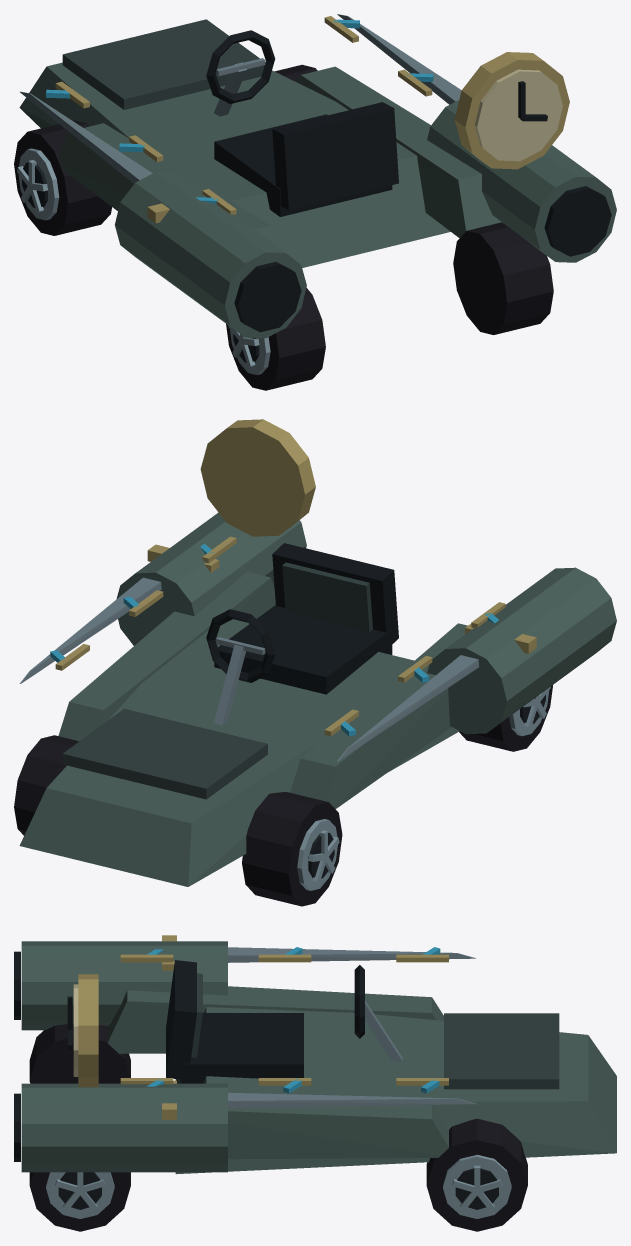
Rendered from kart.glb.
The picture shows the model from 3 angles, top to bottom: view 1: azimuth 30°, elevation 25°; view 2: azimuth 150°, elevation 25°; view 3: azimuth 270°, elevation 25°; orthographic projection. The views are drawn at different scales.
Parts seen in each view (by area): view 1: identity-speeder-speeder-long-cowl-and-stern-turbines, identity-speeder-driver-cockpit, identity-speeder-motif-clock, wheel-rear-right, wheel-front-left, wheel-rear-left, identity-speeder-motif-swords, identity-speeder-motif-runes; view 2: identity-speeder-speeder-long-cowl-and-stern-turbines, identity-speeder-driver-cockpit, identity-speeder-motif-clock, wheel-front-left, identity-speeder-motif-swords, wheel-front-right, identity-speeder-motif-runes, wheel-rear-left; view 3: identity-speeder-speeder-long-cowl-and-stern-turbines, identity-speeder-driver-cockpit, wheel-front-right, identity-speeder-motif-swords, wheel-rear-right, wheel-rear-left, identity-speeder-motif-clock, identity-speeder-motif-runes.
Boxes of the visible parts, <box> form: identity-speeder-speeder-long-cowl-and-stern-turbines: <box>19,19,616,338</box>; identity-speeder-driver-cockpit: <box>206,30,398,216</box>; identity-speeder-motif-clock: <box>454,52,569,169</box>; wheel-rear-right: <box>453,222,553,334</box>; wheel-front-left: <box>14,120,111,235</box>; wheel-rear-left: <box>226,287,325,390</box>; identity-speeder-motif-swords: <box>20,14,461,223</box>; identity-speeder-motif-runes: <box>46,16,433,214</box>; identity-speeder-speeder-long-cowl-and-stern-turbines: <box>19,512,616,886</box>; identity-speeder-driver-cockpit: <box>206,543,398,725</box>; identity-speeder-motif-clock: <box>200,419,315,536</box>; wheel-front-left: <box>242,792,342,906</box>; identity-speeder-motif-swords: <box>19,544,536,761</box>; wheel-front-right: <box>14,735,78,835</box>; identity-speeder-motif-runes: <box>50,536,505,736</box>; wheel-rear-left: <box>459,685,552,751</box>; identity-speeder-speeder-long-cowl-and-stern-turbines: <box>14,941,616,1174</box>; identity-speeder-driver-cockpit: <box>166,960,402,1083</box>; wheel-front-right: <box>426,1118,527,1231</box>; identity-speeder-motif-swords: <box>162,935,475,1119</box>; wheel-rear-right: <box>29,1172,130,1231</box>; wheel-rear-left: <box>29,1023,130,1083</box>; identity-speeder-motif-clock: <box>67,974,98,1087</box>; identity-speeder-motif-runes: <box>120,947,448,1093</box>.
Bounding box in the file's own units: 2.1 × 1.35 × 2.98.
